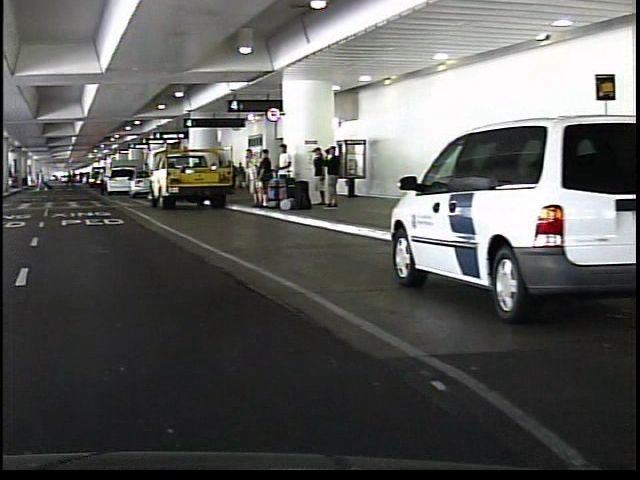person: (237, 144, 256, 206), (320, 143, 336, 208), (30, 161, 48, 195), (92, 166, 104, 199)
